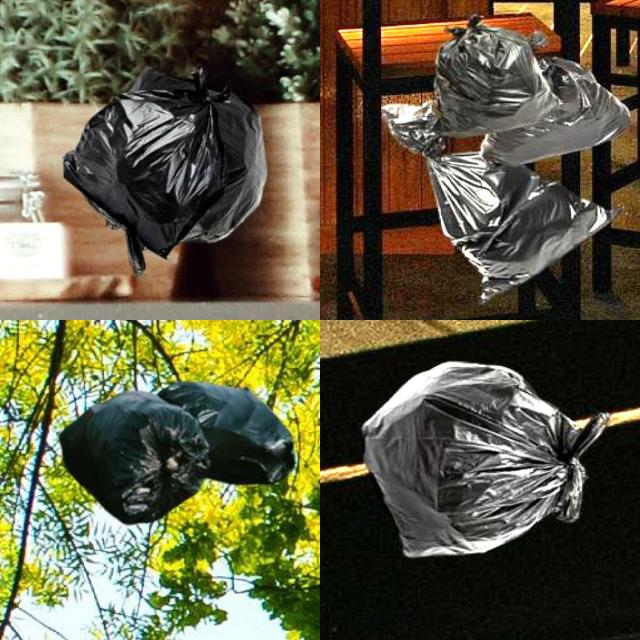Single-layer Plastic: (362, 361, 608, 558), (382, 101, 619, 302), (64, 69, 268, 274), (61, 382, 295, 523), (481, 58, 629, 165), (434, 16, 560, 136)
